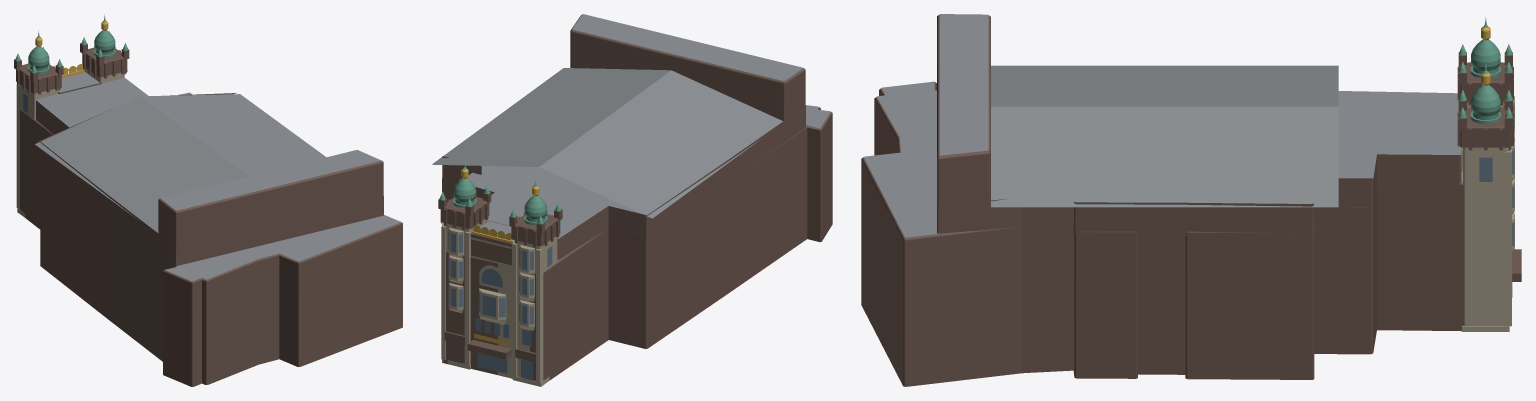
Rendered from amsterdam-tuschinski.glb.
3 renders of one model, left to right at view 1: azimuth 30°, elevation 25°; view 2: azimuth 150°, elevation 25°; view 3: azimuth 270°, elevation 25°, orthographic. The views are drawn at different scales.
Visible parts, largest first — view 1: Pathé Tuschinski; view 2: Pathé Tuschinski; view 3: Pathé Tuschinski.
Boxes of the visible parts, x1,y1,x2,y2 form: Pathé Tuschinski: (14,14,402,386); Pathé Tuschinski: (432,14,832,386); Pathé Tuschinski: (861,14,1521,386).
Bounding box in the file's own units: 36.61 × 28.2 × 64.6.
